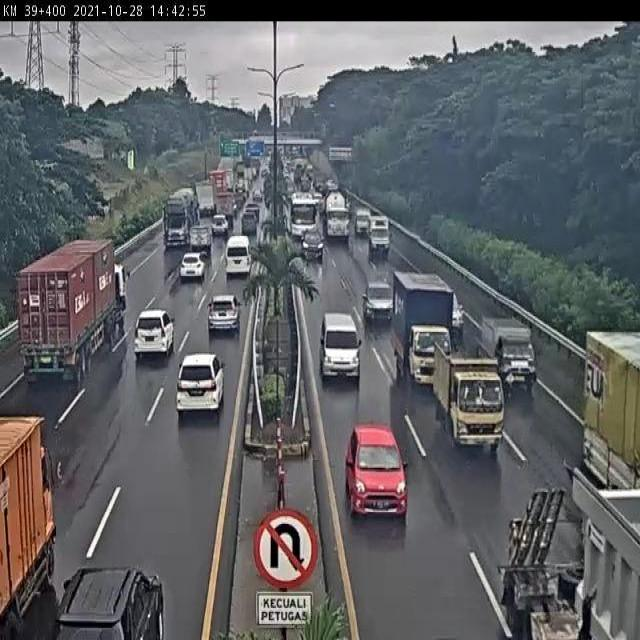big bus: (287, 192, 322, 257)
big truck: (0, 390, 81, 634), (27, 236, 136, 373), (166, 187, 201, 245), (324, 186, 355, 246)
car: (69, 522, 176, 640), (351, 442, 420, 554), (324, 323, 368, 400), (181, 341, 228, 399), (141, 301, 180, 351), (365, 287, 400, 333), (210, 288, 244, 329), (227, 232, 254, 272), (301, 229, 325, 268), (183, 249, 207, 280)
small truck: (442, 354, 526, 470), (397, 271, 467, 398), (489, 320, 551, 400), (370, 216, 397, 264), (352, 205, 374, 243)
